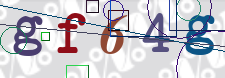4: (141, 12, 172, 53)
6: (99, 13, 128, 55)
f: (57, 11, 87, 55)
g: (183, 13, 215, 56), (13, 15, 43, 57)
